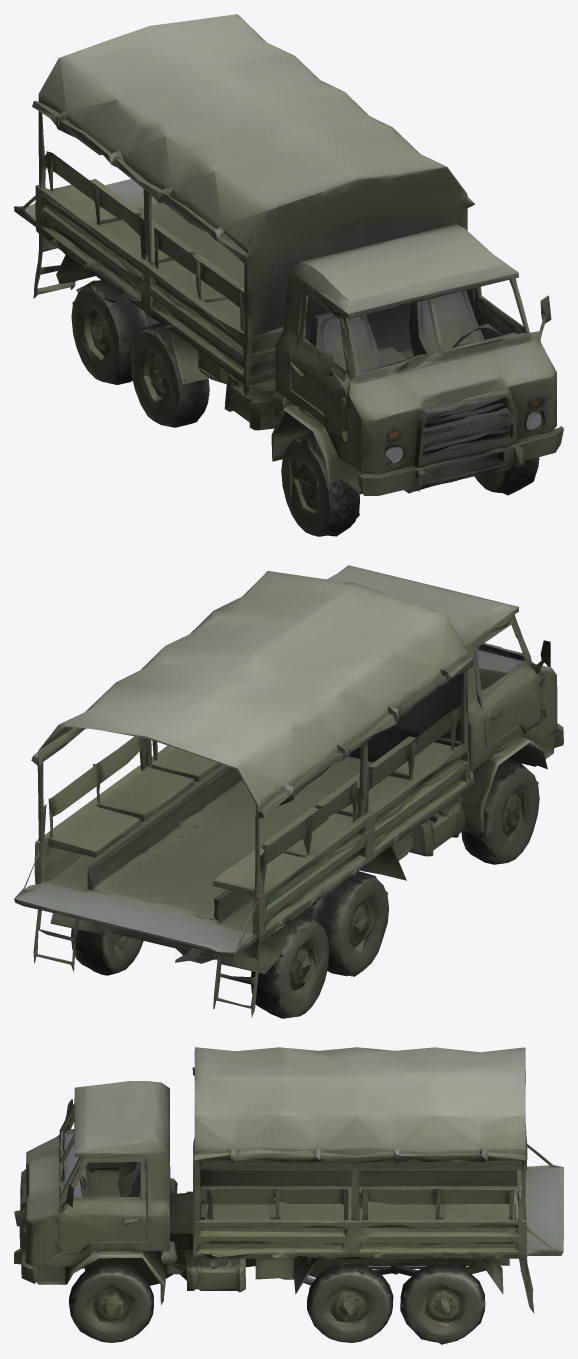
File: exercito_caminhao.glb
3 renders of one model, top to bottom at view 1: azimuth 30°, elevation 25°; view 2: azimuth 150°, elevation 25°; view 3: azimuth 270°, elevation 25°, orthographic. The views are drawn at different scales.
Visible parts, largest first — view 1: tripo_node_a1d61d3a-cc22-4253-ad23-c7cff5743b50; view 2: tripo_node_a1d61d3a-cc22-4253-ad23-c7cff5743b50; view 3: tripo_node_a1d61d3a-cc22-4253-ad23-c7cff5743b50.
Boxes of the visible parts, bbox=[...] form: tripo_node_a1d61d3a-cc22-4253-ad23-c7cff5743b50: bbox=[14, 14, 563, 536]; tripo_node_a1d61d3a-cc22-4253-ad23-c7cff5743b50: bbox=[14, 565, 563, 1018]; tripo_node_a1d61d3a-cc22-4253-ad23-c7cff5743b50: bbox=[14, 1047, 563, 1344].
Size of the model in its own units: 3.04 by 3.53 by 7.6.
1 material, 1 textured.
